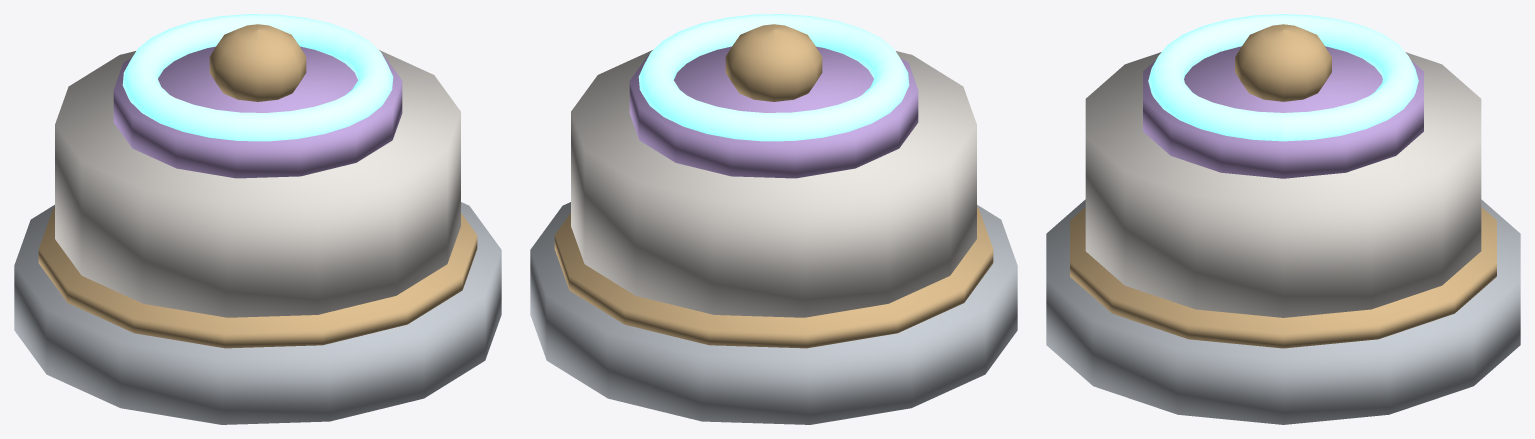
The model's file is int_harmony_switch.glb.
The picture shows the model from 3 angles, left to right: view 1: azimuth 30°, elevation 25°; view 2: azimuth 150°, elevation 25°; view 3: azimuth 270°, elevation 25°; orthographic projection.
Visible parts, largest first — view 1: INT_harmony_switch_casing, INT_harmony_switch_base, INT_harmony_switch_button, INT_harmony_switch_activation, INT_harmony_switch_gold, INT_harmony_switch_switch_core; view 2: INT_harmony_switch_casing, INT_harmony_switch_base, INT_harmony_switch_button, INT_harmony_switch_activation, INT_harmony_switch_gold, INT_harmony_switch_switch_core; view 3: INT_harmony_switch_casing, INT_harmony_switch_base, INT_harmony_switch_button, INT_harmony_switch_activation, INT_harmony_switch_gold, INT_harmony_switch_switch_core.
Boxes of the visible parts, <box> form: INT_harmony_switch_casing: <box>55,50,460,317</box>; INT_harmony_switch_base: <box>14,202,501,424</box>; INT_harmony_switch_button: <box>113,46,402,178</box>; INT_harmony_switch_activation: <box>122,14,393,141</box>; INT_harmony_switch_gold: <box>38,207,477,348</box>; INT_harmony_switch_switch_core: <box>209,24,306,101</box>; INT_harmony_switch_casing: <box>571,50,976,317</box>; INT_harmony_switch_base: <box>530,202,1017,424</box>; INT_harmony_switch_button: <box>629,46,918,178</box>; INT_harmony_switch_activation: <box>638,14,909,141</box>; INT_harmony_switch_gold: <box>554,207,993,348</box>; INT_harmony_switch_switch_core: <box>725,24,822,101</box>; INT_harmony_switch_casing: <box>1085,52,1481,317</box>; INT_harmony_switch_base: <box>1046,199,1520,424</box>; INT_harmony_switch_button: <box>1143,46,1423,178</box>; INT_harmony_switch_activation: <box>1148,14,1418,141</box>; INT_harmony_switch_gold: <box>1070,207,1496,348</box>; INT_harmony_switch_switch_core: <box>1235,24,1331,101</box>.
Size of the model in its own units: 1.08 by 0.715 by 1.05.
